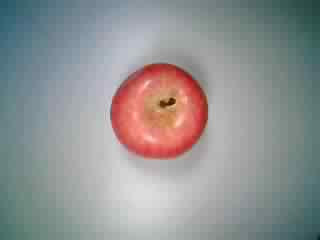apple: (106, 61, 211, 163)
